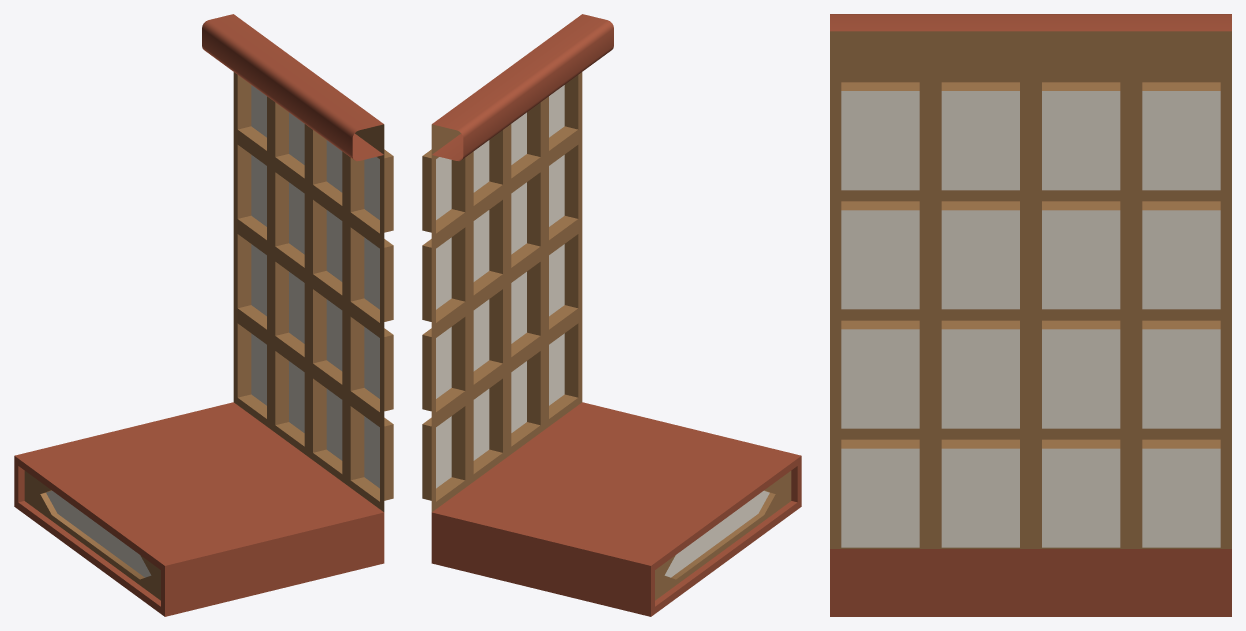
Rendered from Wall_1.fbx.
3 views of the same model, side by side, from view 1: azimuth 30°, elevation 25°; view 2: azimuth 150°, elevation 25°; view 3: azimuth 270°, elevation 25° (orthographic). The views are drawn at different scales.
Visible parts, largest first — view 1: Cube.011; view 2: Cube.011; view 3: Cube.011.
Part boxes in pixels (<box>): Cube.011: <box>14,14,393,616</box>; Cube.011: <box>422,14,801,616</box>; Cube.011: <box>830,14,1231,616</box>.
Bounding box in the file's own units: 2.25 × 4.06 × 2.52.
